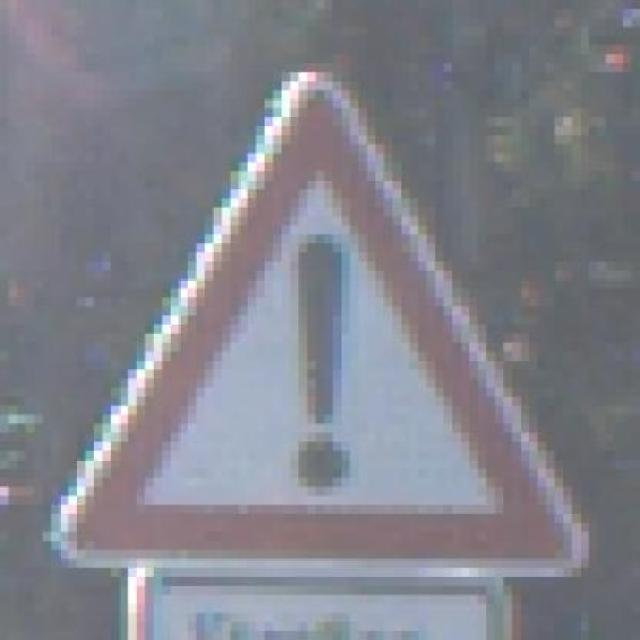Attention Please-: (51, 63, 606, 586)
